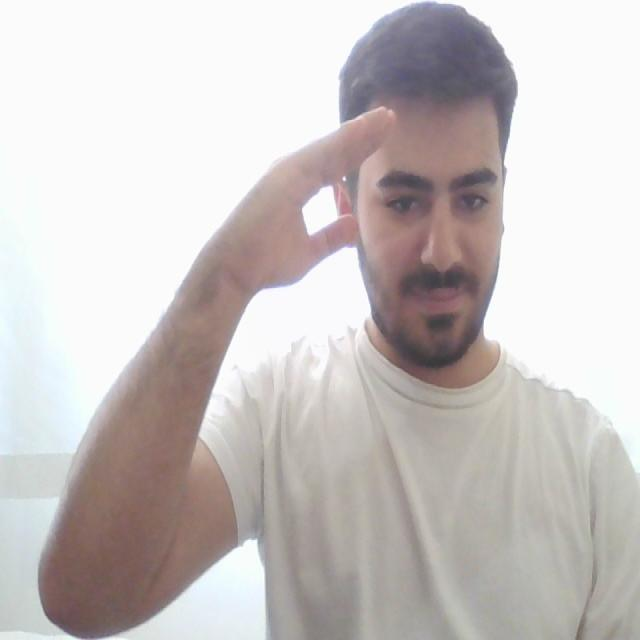Merhaba: (215, 72, 417, 330)
